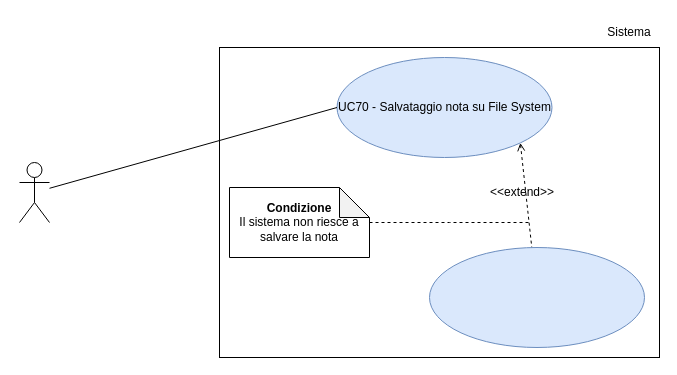
Image size: 677x375. Some labels were removed from this diagram. Here are the shapes that lost their labels. From the top down, the centre of each, then its label:
At point 34,192: "Utente".
At point 536,297: "UC72 - Errore salvataggio nota".
